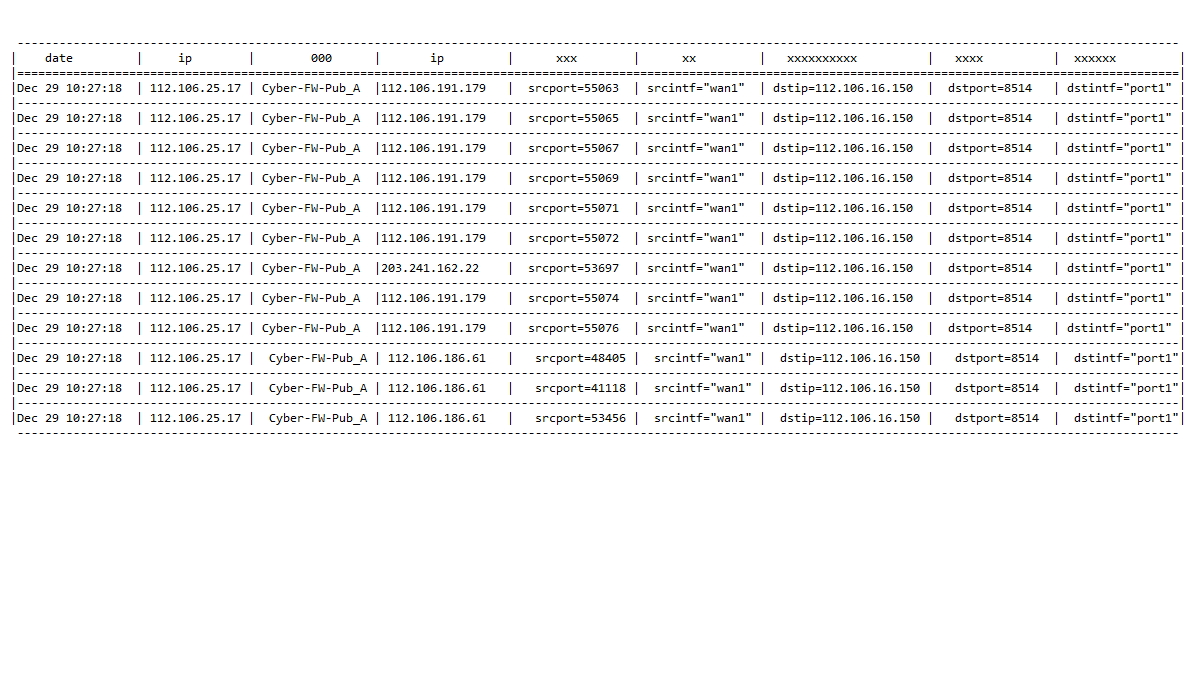table: (6, 38, 1190, 437)
